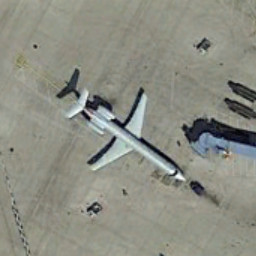Airplane: (48, 76, 200, 196)
